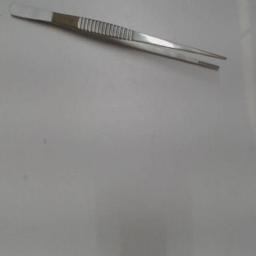DeBakey Dissector: (8, 3, 232, 81)
